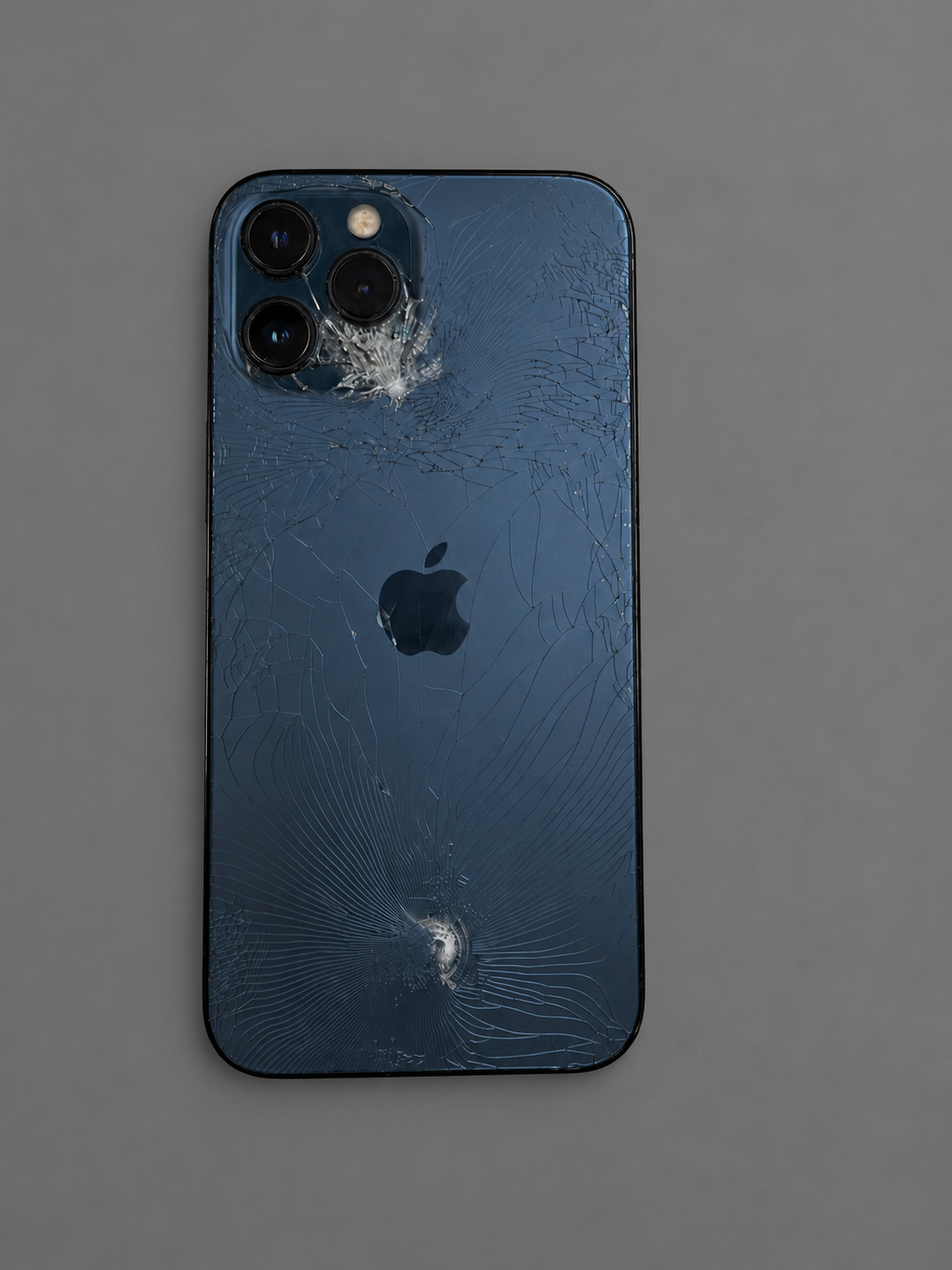iphone_12_pro_max_Crack: (161, 125, 698, 1131)
